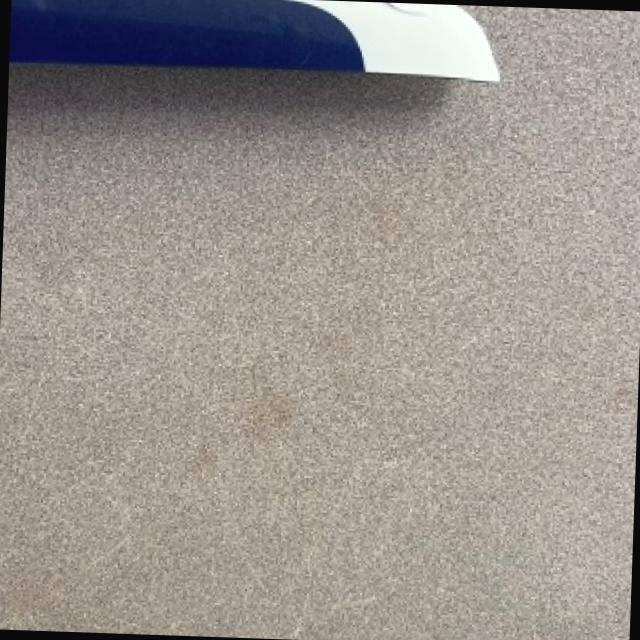healthy: (11, 0, 501, 77)
